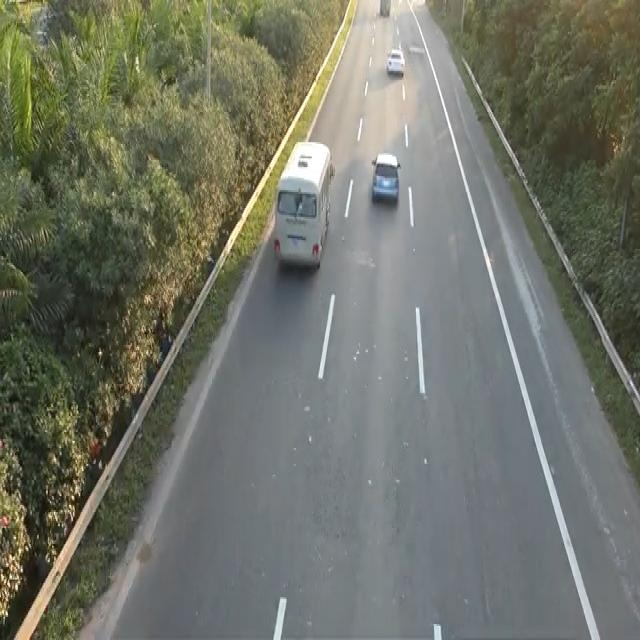bus: (369, 150, 401, 204)
jeep: (271, 137, 335, 270)
